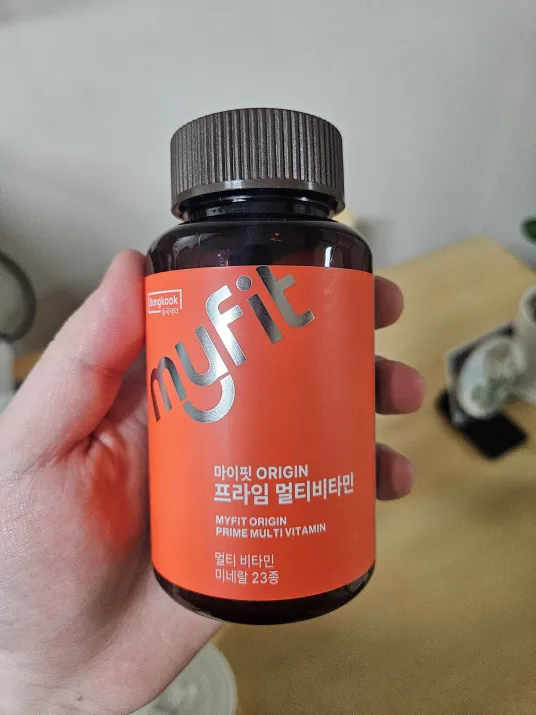supplement_label: (136, 256, 382, 601)
